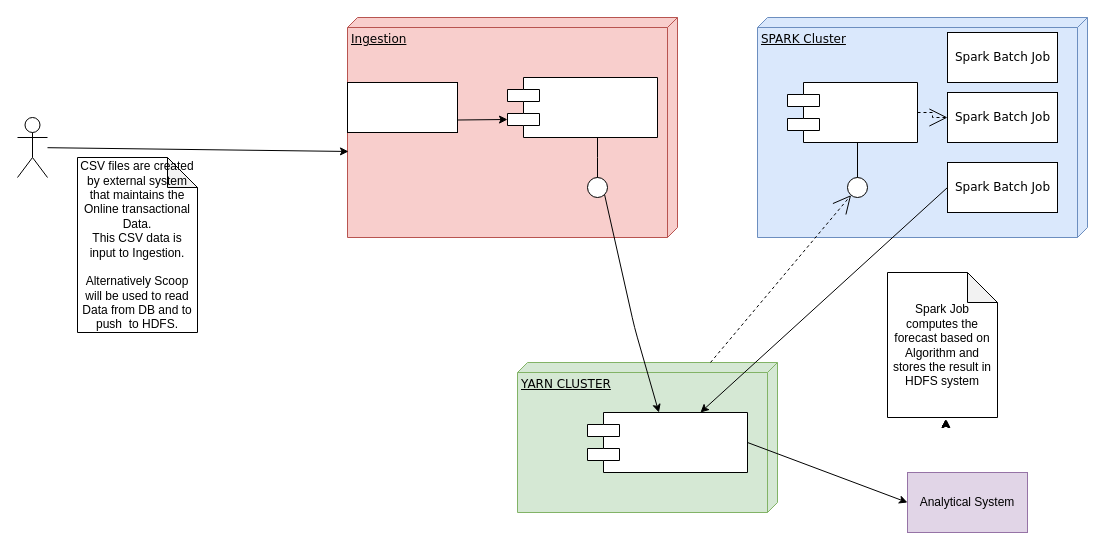
The diagram is 1105 pixels wide and 550 high, and some of its shapes have lost their labels. Each missing label, with the centre of its shape:
"Actor" belongs at (x=32, y=147).
"HDFS FILE SYSTEM" belongs at (x=667, y=442).
"RDBMS/CSV files" belongs at (x=402, y=107).
"SparkContex" belongs at (x=852, y=112).
"Sqoop/Ingestion" belongs at (x=582, y=107).
